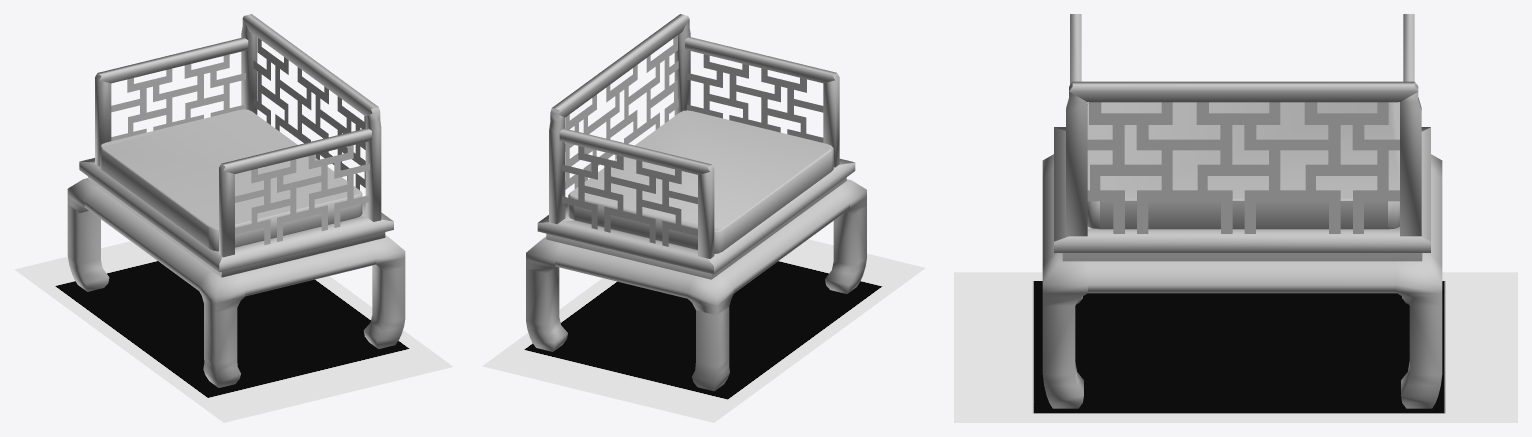
File: cheer002.dae
3 views of the same model, side by side, from view 1: azimuth 30°, elevation 25°; view 2: azimuth 150°, elevation 25°; view 3: azimuth 270°, elevation 25° (orthographic). The views are drawn at different scales.
Visible parts, largest first — view 1: cheer002_ld, sd_cheer002_ld; view 2: cheer002_ld, sd_cheer002_ld; view 3: cheer002_ld, sd_cheer002_ld.
Boxes of the visible parts, x1=… form: cheer002_ld: x1=67, y1=14, x2=405, y2=387; sd_cheer002_ld: x1=14, y1=241, x2=453, y2=422; cheer002_ld: x1=526, y1=14, x2=866, y2=391; sd_cheer002_ld: x1=482, y1=239, x2=925, y2=422; cheer002_ld: x1=1042, y1=14, x2=1442, y2=408; sd_cheer002_ld: x1=954, y1=272, x2=1517, y2=422.
Bounding box in the file's own units: 0.8368 × 0.8179 × 1.32.
